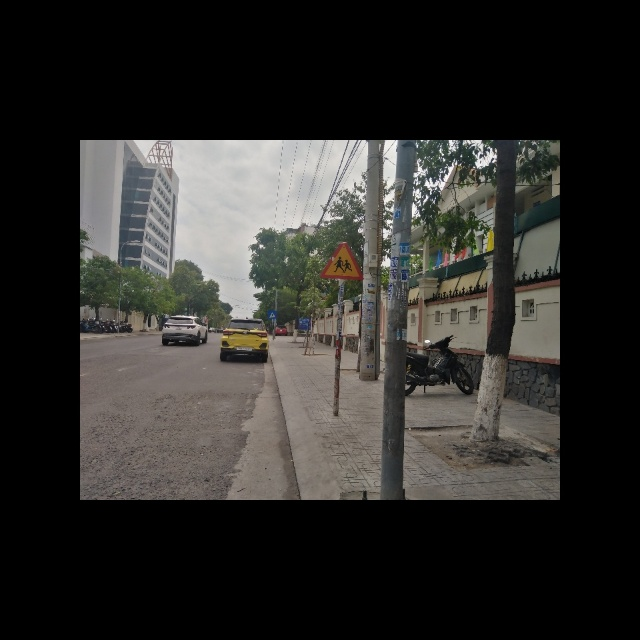Trẻ em ngang qua: (318, 244, 363, 281)
Đường dành cho người đi bộ: (267, 309, 277, 319)
